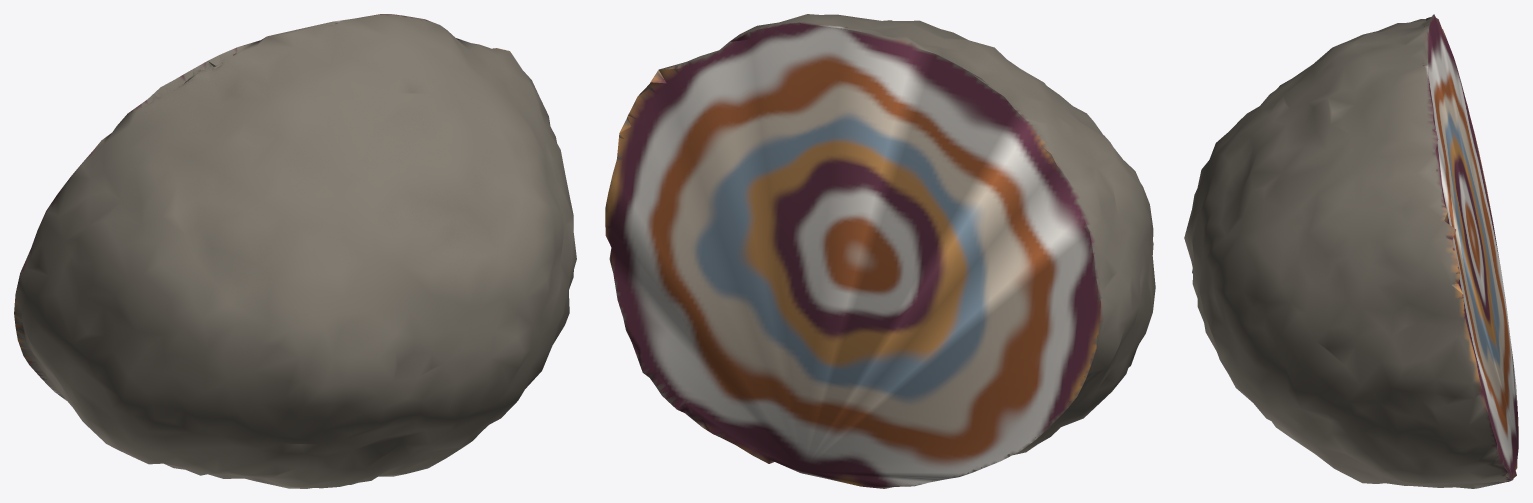
The model's file is agata_bandas.fbx.
3 renders of one model, left to right at view 1: azimuth 30°, elevation 25°; view 2: azimuth 150°, elevation 25°; view 3: azimuth 270°, elevation 25°, orthographic. The views are drawn at different scales.
Parts seen in each view (by area): view 1: agata_bandas; view 2: agata_bandas; view 3: agata_bandas.
Boxes of the visible parts, box(x1,y1,x2,y2) form: agata_bandas: box(14, 14, 576, 488); agata_bandas: box(605, 14, 1155, 488); agata_bandas: box(1184, 14, 1518, 488).
Size of the model in its own units: 2.45 by 1.99 by 1.5.
1 material, 1 textured.
